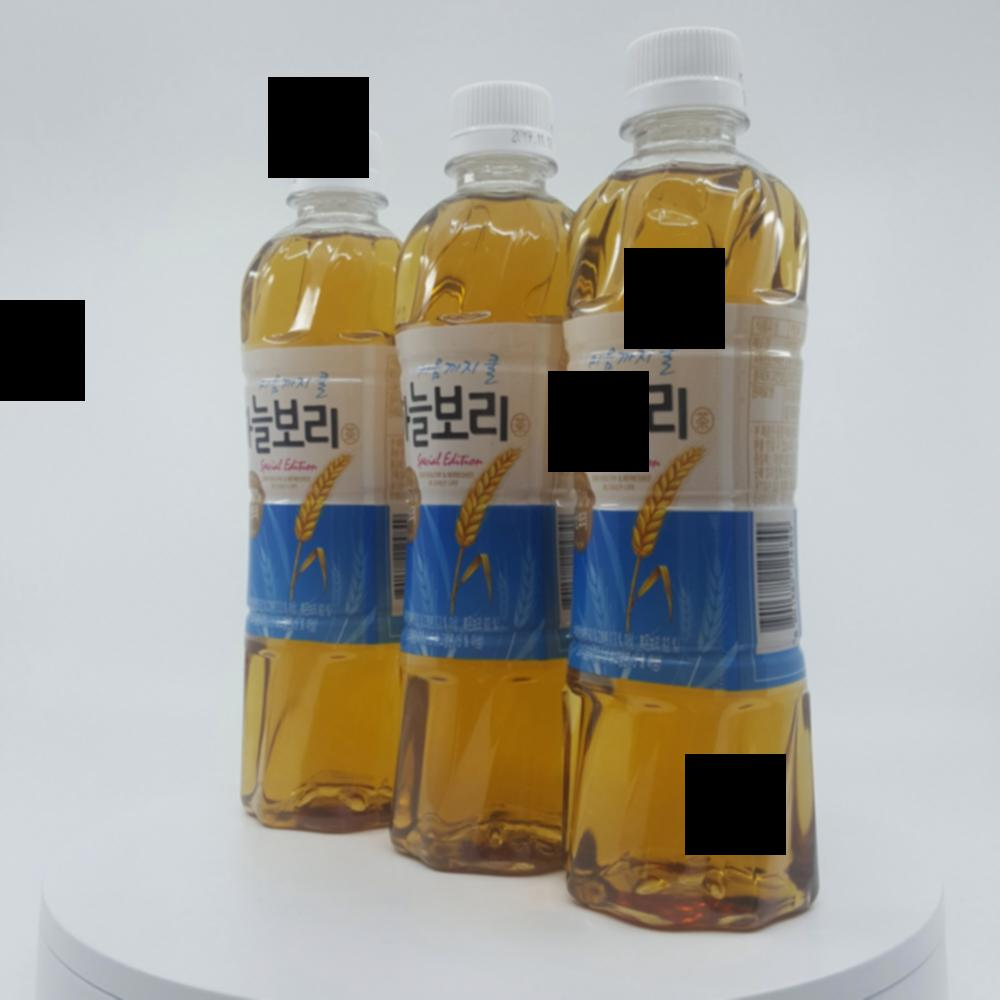haneulbori: (568, 48, 847, 953), (403, 83, 585, 887), (223, 120, 386, 837)
